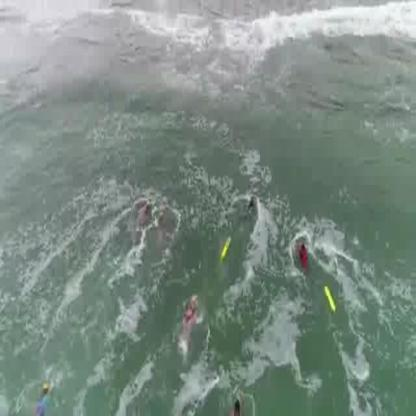Boat: (321, 283, 338, 312)
